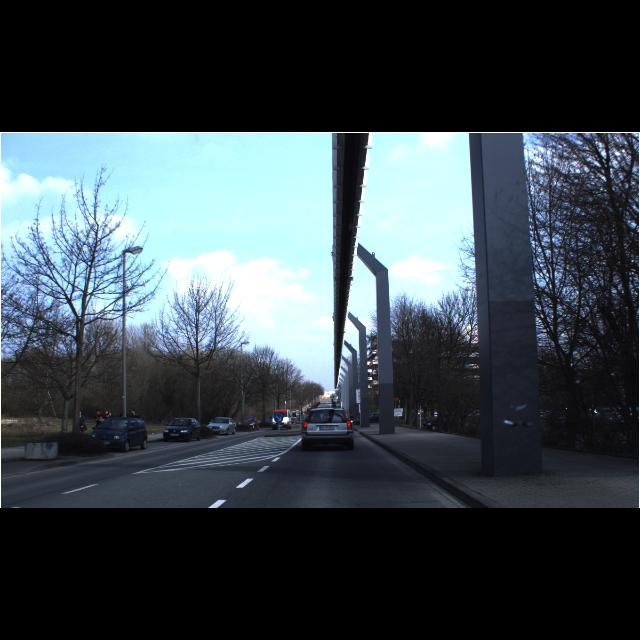mandatory: (274, 414, 282, 424)
